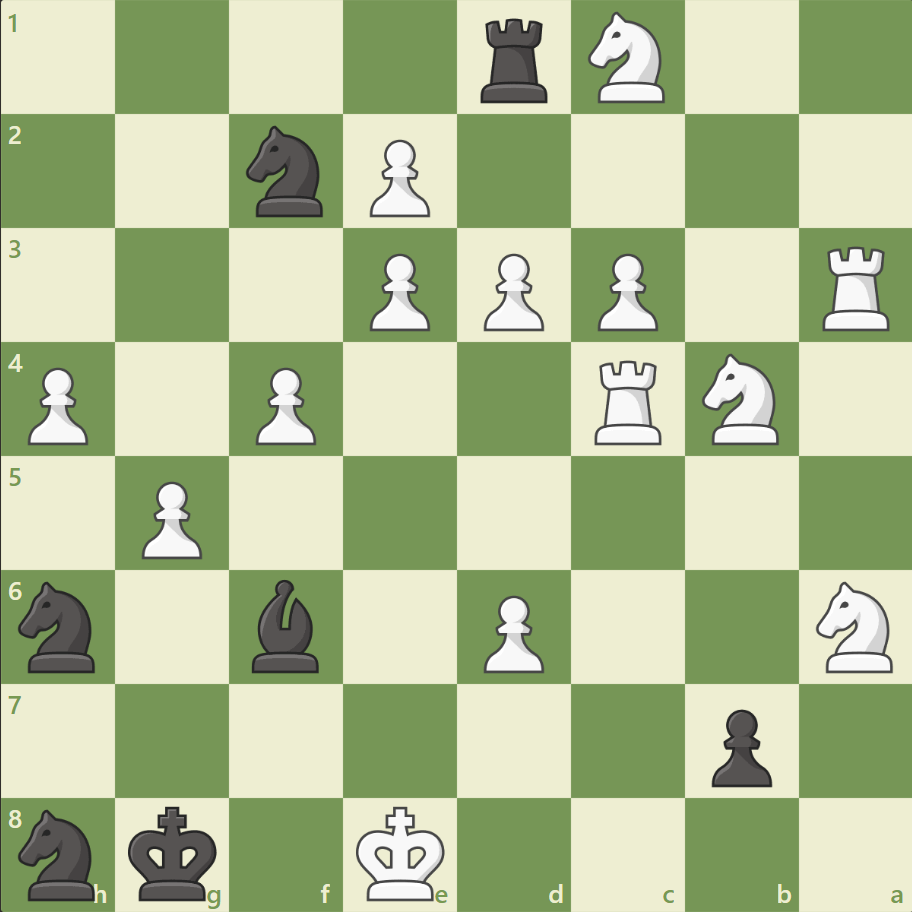K: (351, 798, 451, 906)
N: (579, 7, 676, 110), (806, 575, 903, 677), (692, 348, 789, 450)
P: (474, 586, 549, 677), (133, 473, 208, 564), (247, 359, 322, 450), (20, 359, 95, 450), (474, 246, 549, 337), (588, 246, 662, 337), (361, 246, 435, 337), (361, 132, 435, 223)
R: (587, 352, 670, 449), (814, 239, 897, 336)
b: (244, 574, 328, 676)
k: (124, 798, 224, 906)
n: (11, 802, 108, 904), (11, 575, 108, 677), (238, 121, 335, 223)
p: (701, 700, 776, 791)
r: (473, 12, 556, 109)
